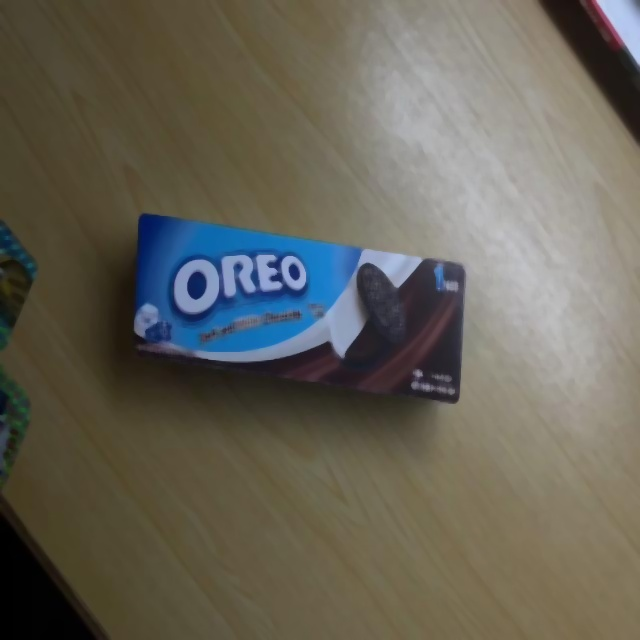Oreo: (129, 212, 467, 407)
